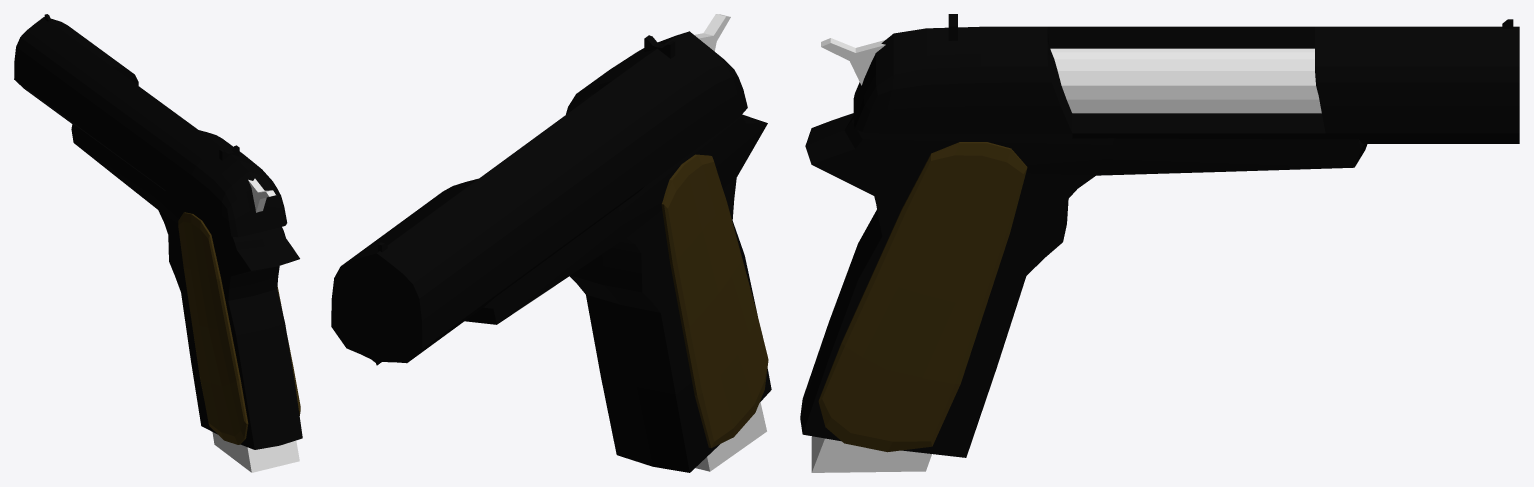
3 renders of one model, left to right at view 1: azimuth 30°, elevation 25°; view 2: azimuth 150°, elevation 25°; view 3: azimuth 270°, elevation 25°, orthographic. The views are drawn at different scales.
Visible parts, largest first — view 1: m1911slide, m1911base.001, m1911base, m1911magazine, m1911hammer; view 2: m1911slide, m1911base.001, m1911base, m1911magazine, m1911hammer; view 3: m1911slide, m1911base.001, m1911base, m1911magazine, m1911hammer.
Part boxes in pixels (x1,y1,x2,y2): m1911slide: (14, 14, 287, 237); m1911base.001: (71, 123, 302, 449); m1911base: (178, 212, 300, 444); m1911magazine: (212, 432, 299, 472); m1911hammer: (248, 178, 275, 212); m1911slide: (331, 31, 747, 365); m1911base.001: (465, 114, 771, 472); m1911base: (661, 154, 768, 448); m1911magazine: (695, 402, 766, 471); m1911hammer: (694, 14, 730, 51); m1911slide: (853, 14, 1519, 143); m1911base.001: (800, 113, 1367, 457); m1911base: (818, 142, 1027, 452); m1911magazine: (811, 436, 931, 472); m1911hammer: (821, 38, 885, 85).
Size of the model in its own units: 0.0351 by 0.1594 by 0.2391.
